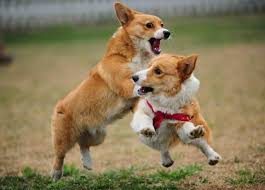dog: (131, 62, 168, 97), (140, 17, 171, 54)
